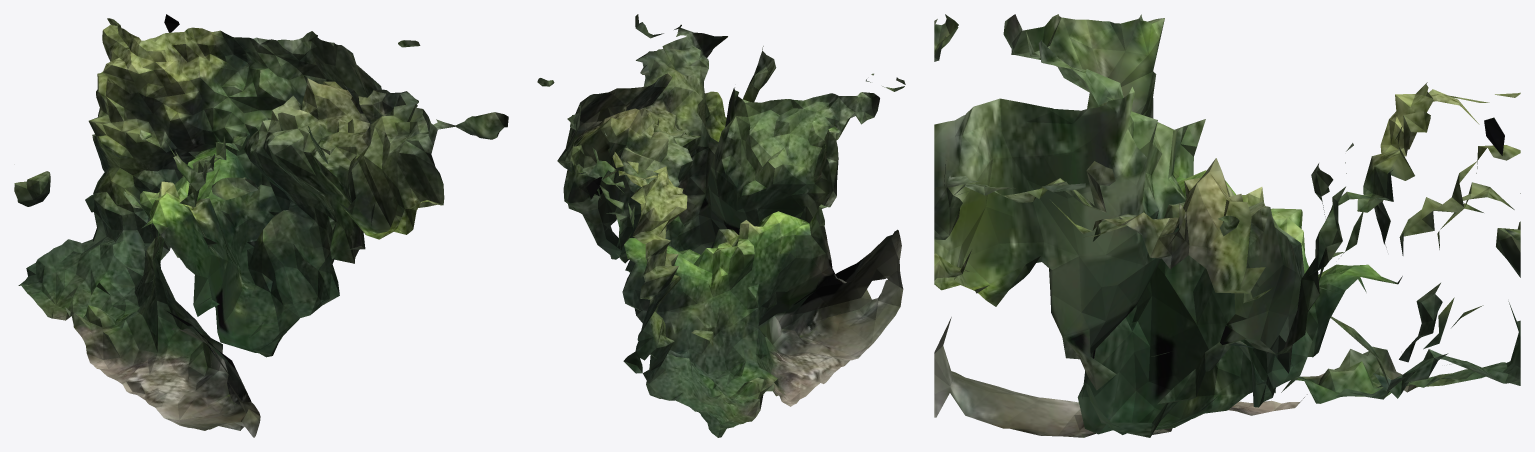
3 renders of one model, left to right at view 1: azimuth 30°, elevation 25°; view 2: azimuth 150°, elevation 25°; view 3: azimuth 270°, elevation 25°, orthographic. The views are drawn at different scales.
Size of the model in its own units: 20.54 by 17.43 by 23.6.
5 materials, 5 textured.
